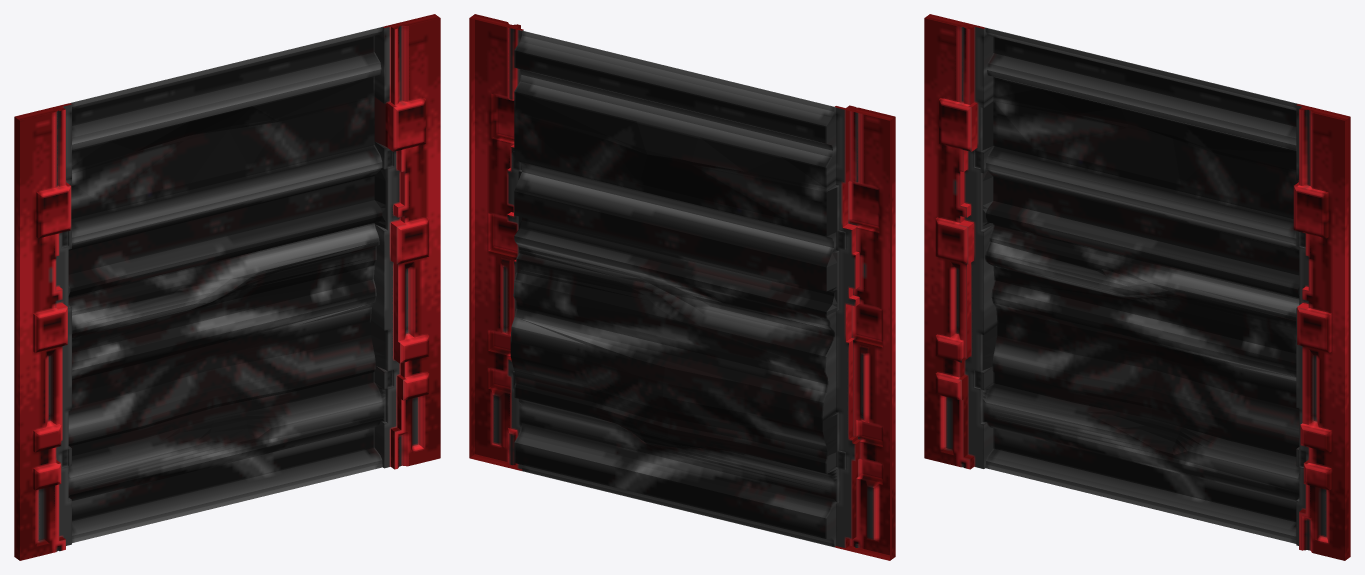
Rendered from reac3_3.fbx.
3 views of the same model, side by side, from view 1: azimuth 30°, elevation 25°; view 2: azimuth 150°, elevation 25°; view 3: azimuth 330°, elevation 25° (orthographic).
Parts seen in each view (by area): view 1: reac3_3_mesh; view 2: reac3_3_mesh; view 3: reac3_3_mesh.
Part boxes in pixels (x1,y1,x2,y2): reac3_3_mesh: [14, 14, 440, 560]; reac3_3_mesh: [469, 14, 895, 560]; reac3_3_mesh: [924, 14, 1350, 560].
Bounding box in the file's own units: 256 × 256 × 25.42.
